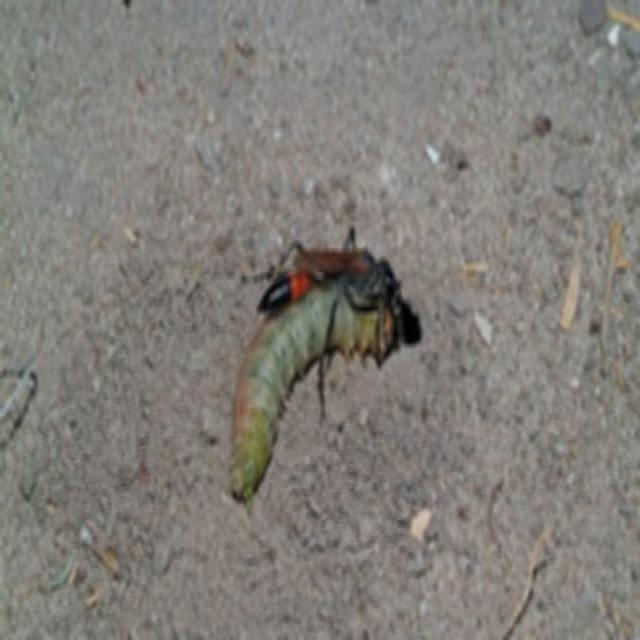army worm: (221, 218, 412, 514)
